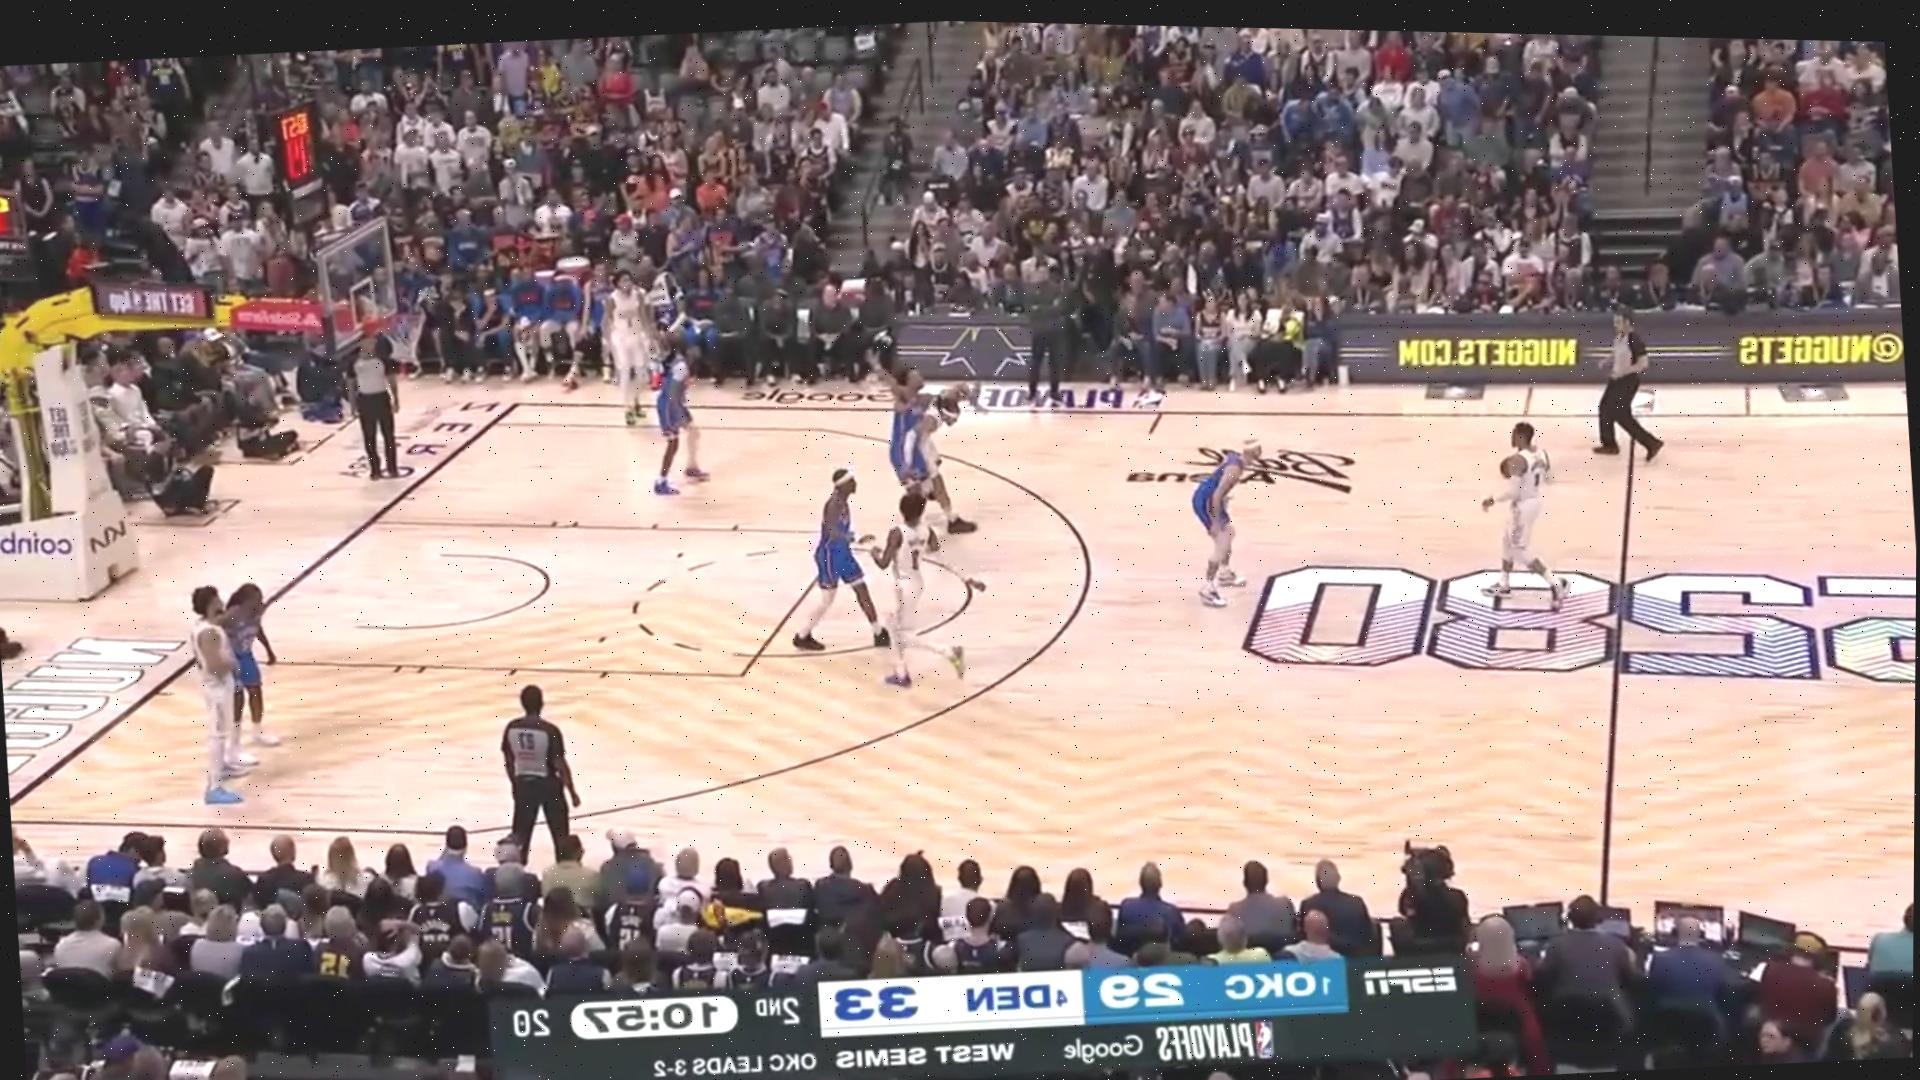foul: (841, 330, 1001, 548)
